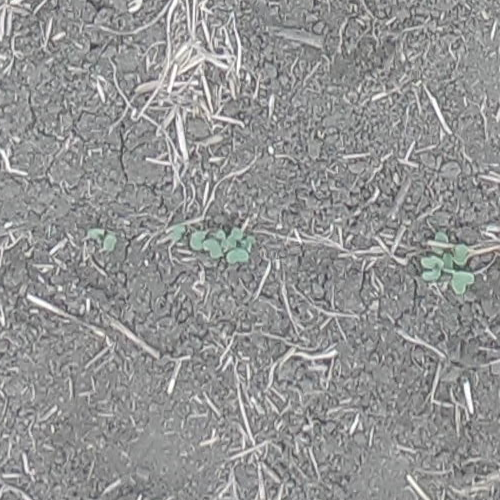clumped: (419, 232, 475, 295), (171, 224, 255, 265)
isolated: (86, 227, 118, 252)
